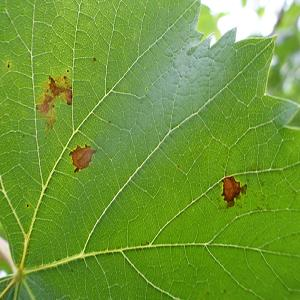Folha: (0, 0, 299, 298)
Fungo: (35, 72, 72, 134), (221, 174, 247, 208), (69, 142, 97, 173), (54, 73, 72, 105), (39, 102, 49, 113), (6, 60, 10, 69), (92, 56, 96, 61), (26, 202, 29, 208), (66, 68, 69, 72)
